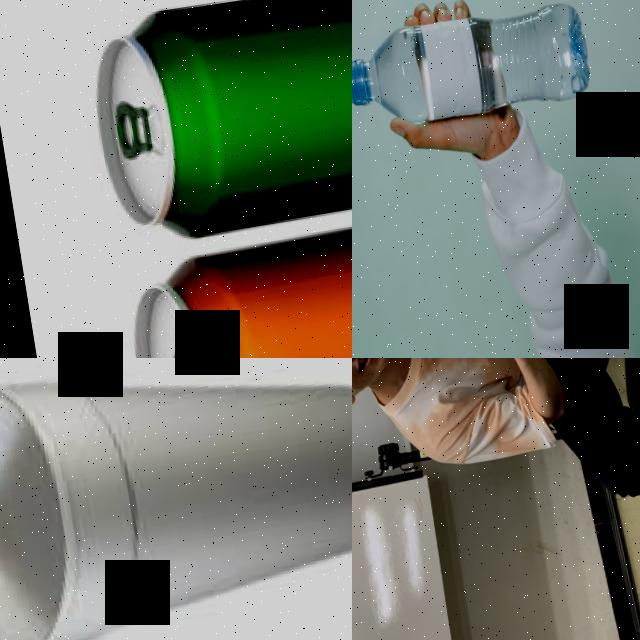bottle: (352, 0, 599, 135)
can: (80, 0, 352, 246), (117, 182, 352, 358)
cup: (0, 358, 352, 640)
